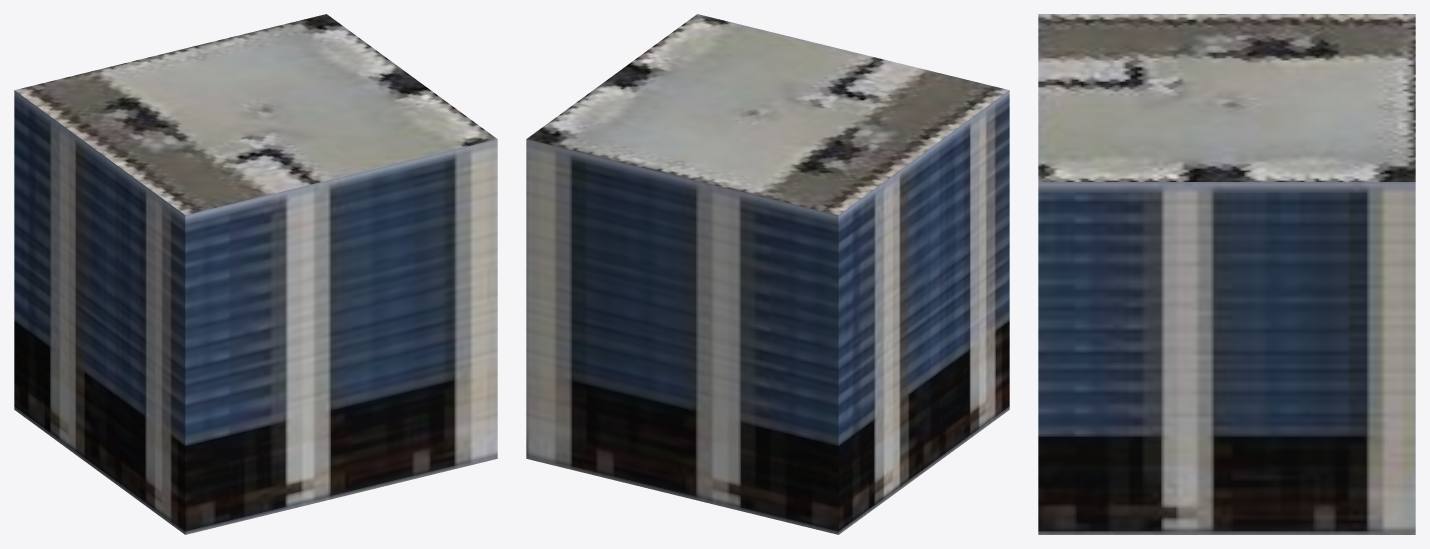
3 renders of one model, left to right at view 1: azimuth 30°, elevation 25°; view 2: azimuth 150°, elevation 25°; view 3: azimuth 270°, elevation 25°, orthographic. The views are drawn at different scales.
Visible parts, largest first — view 1: b78; view 2: b78; view 3: b78.
Part boxes in pixels (left/top/right/bottom): b78: left=14, top=14, right=497, bottom=534; b78: left=526, top=14, right=1009, bottom=534; b78: left=1038, top=14, right=1415, bottom=534.
Size of the model in its own units: 24.95 by 24.42 by 23.65.
Materials: 1 (1 with a texture image).
